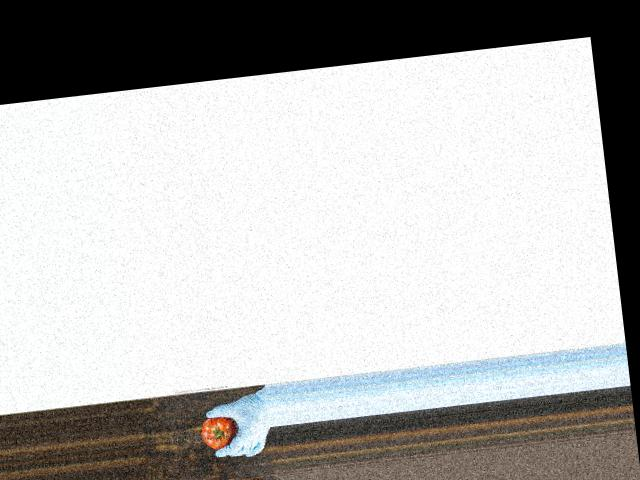tomato: (198, 414, 238, 450)
